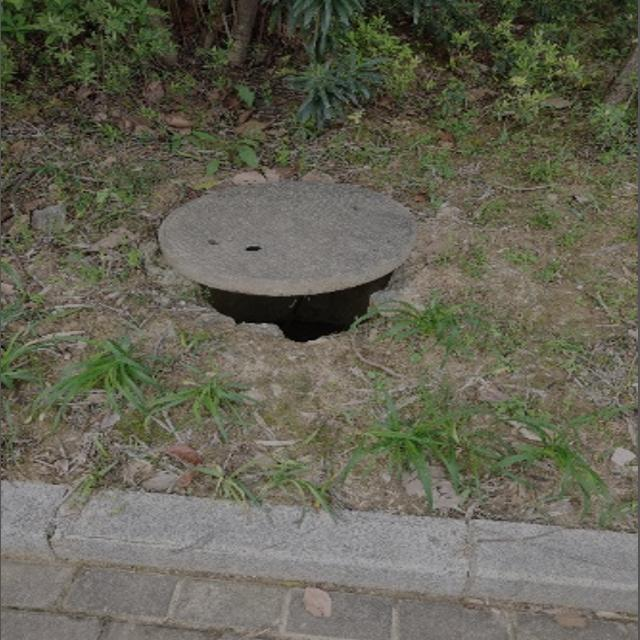broke: (159, 178, 422, 299)
